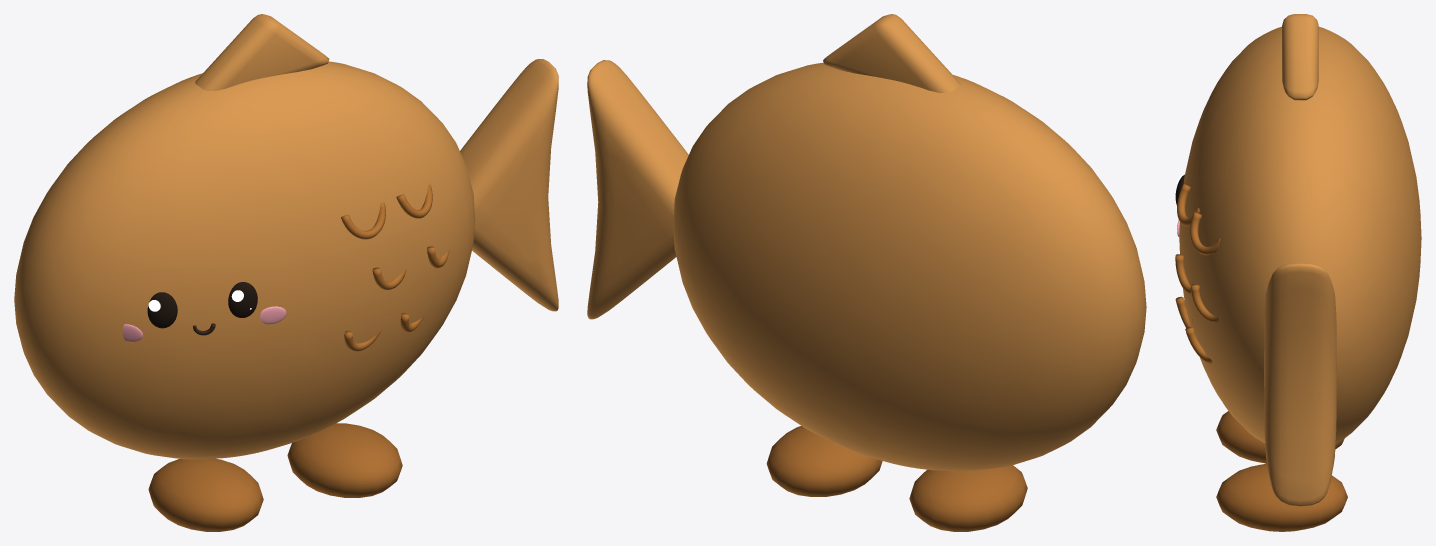
File: bungeo.glb
3 views of the same model, side by side, from view 1: azimuth 30°, elevation 25°; view 2: azimuth 150°, elevation 25°; view 3: azimuth 270°, elevation 25° (orthographic). The views are drawn at different scales.
Visible parts, largest first — view 1: bungeo; view 2: bungeo; view 3: bungeo.
Boxes of the visible parts, x1=… form: bungeo: x1=14, y1=14, x2=558, y2=531; bungeo: x1=587, y1=14, x2=1146, y2=531; bungeo: x1=1175, y1=14, x2=1421, y2=531.
Size of the model in its own units: 0.0988 by 0.0858 by 0.0403.
